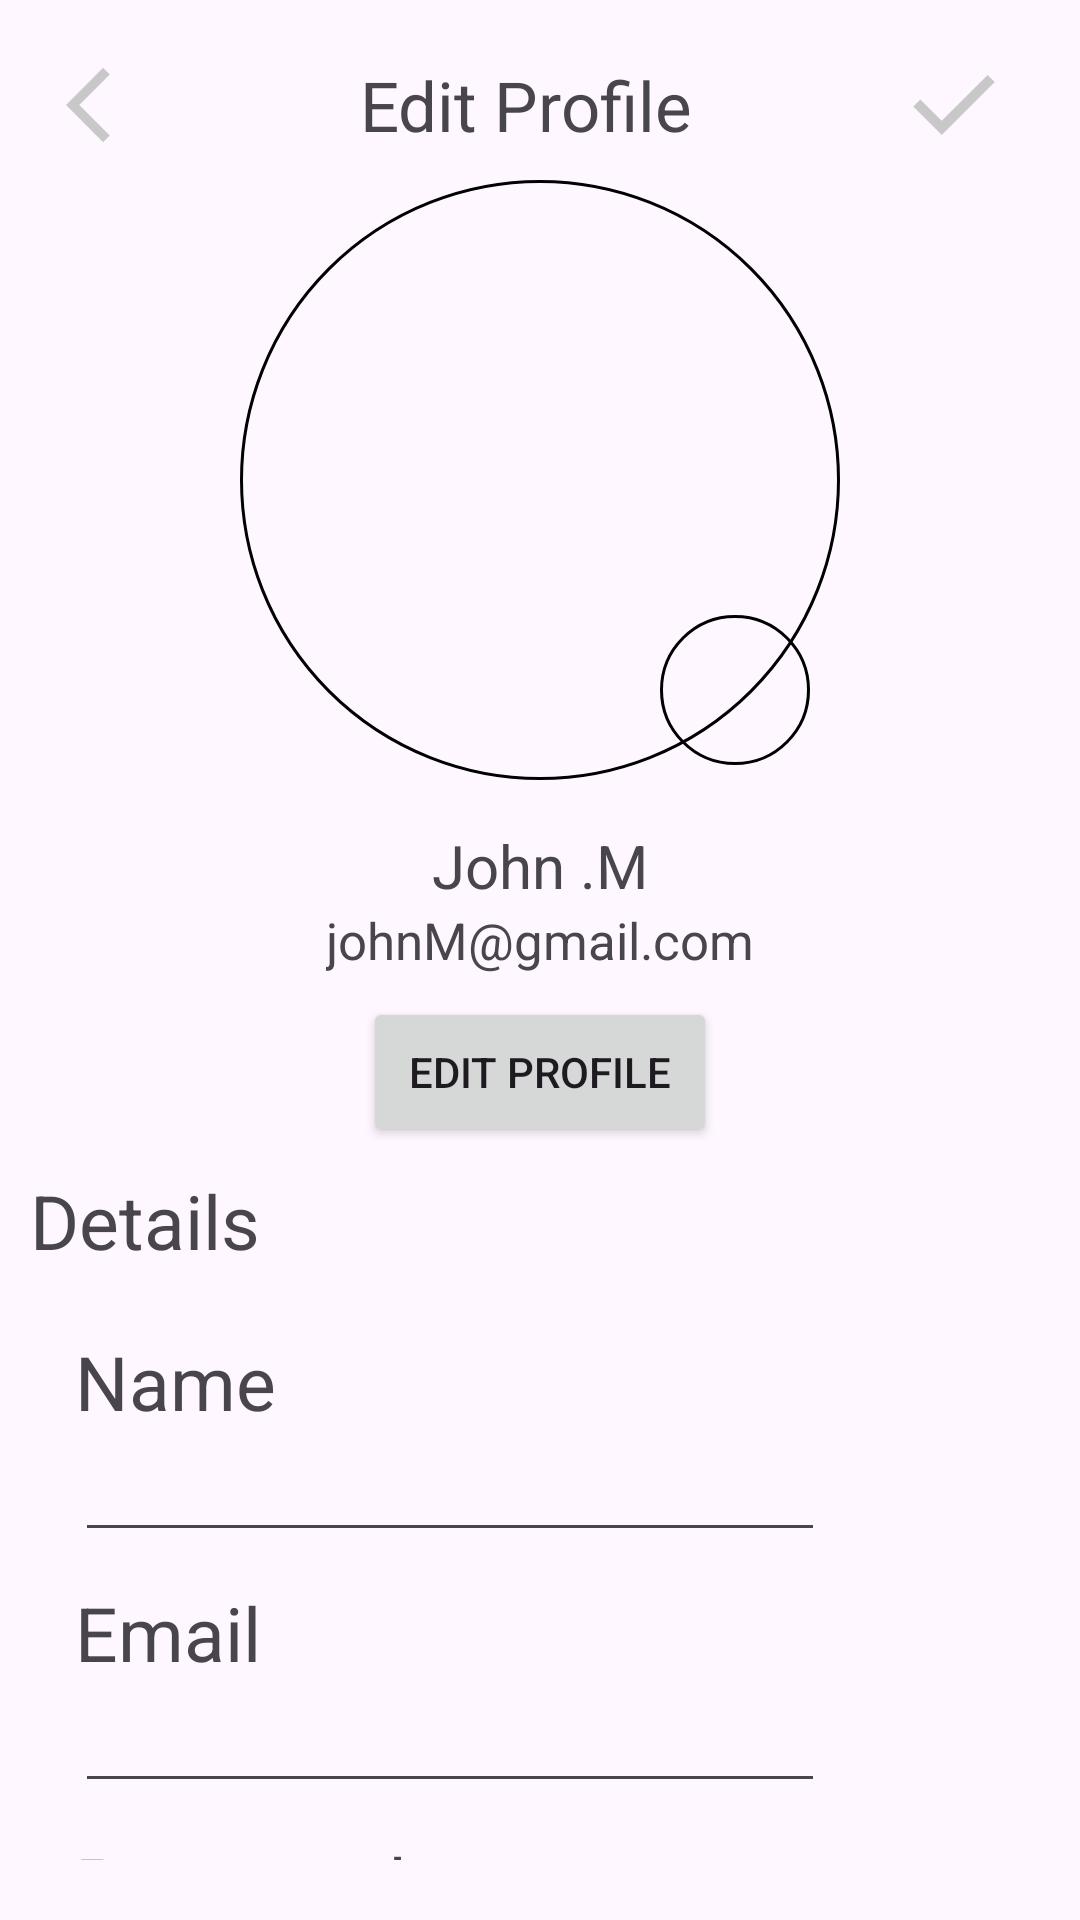

Locate icon controls on the screen. Image size 1080*1920, boxes as (x1, y1, x2, y2).
arrow back: (66, 68, 110, 142)
